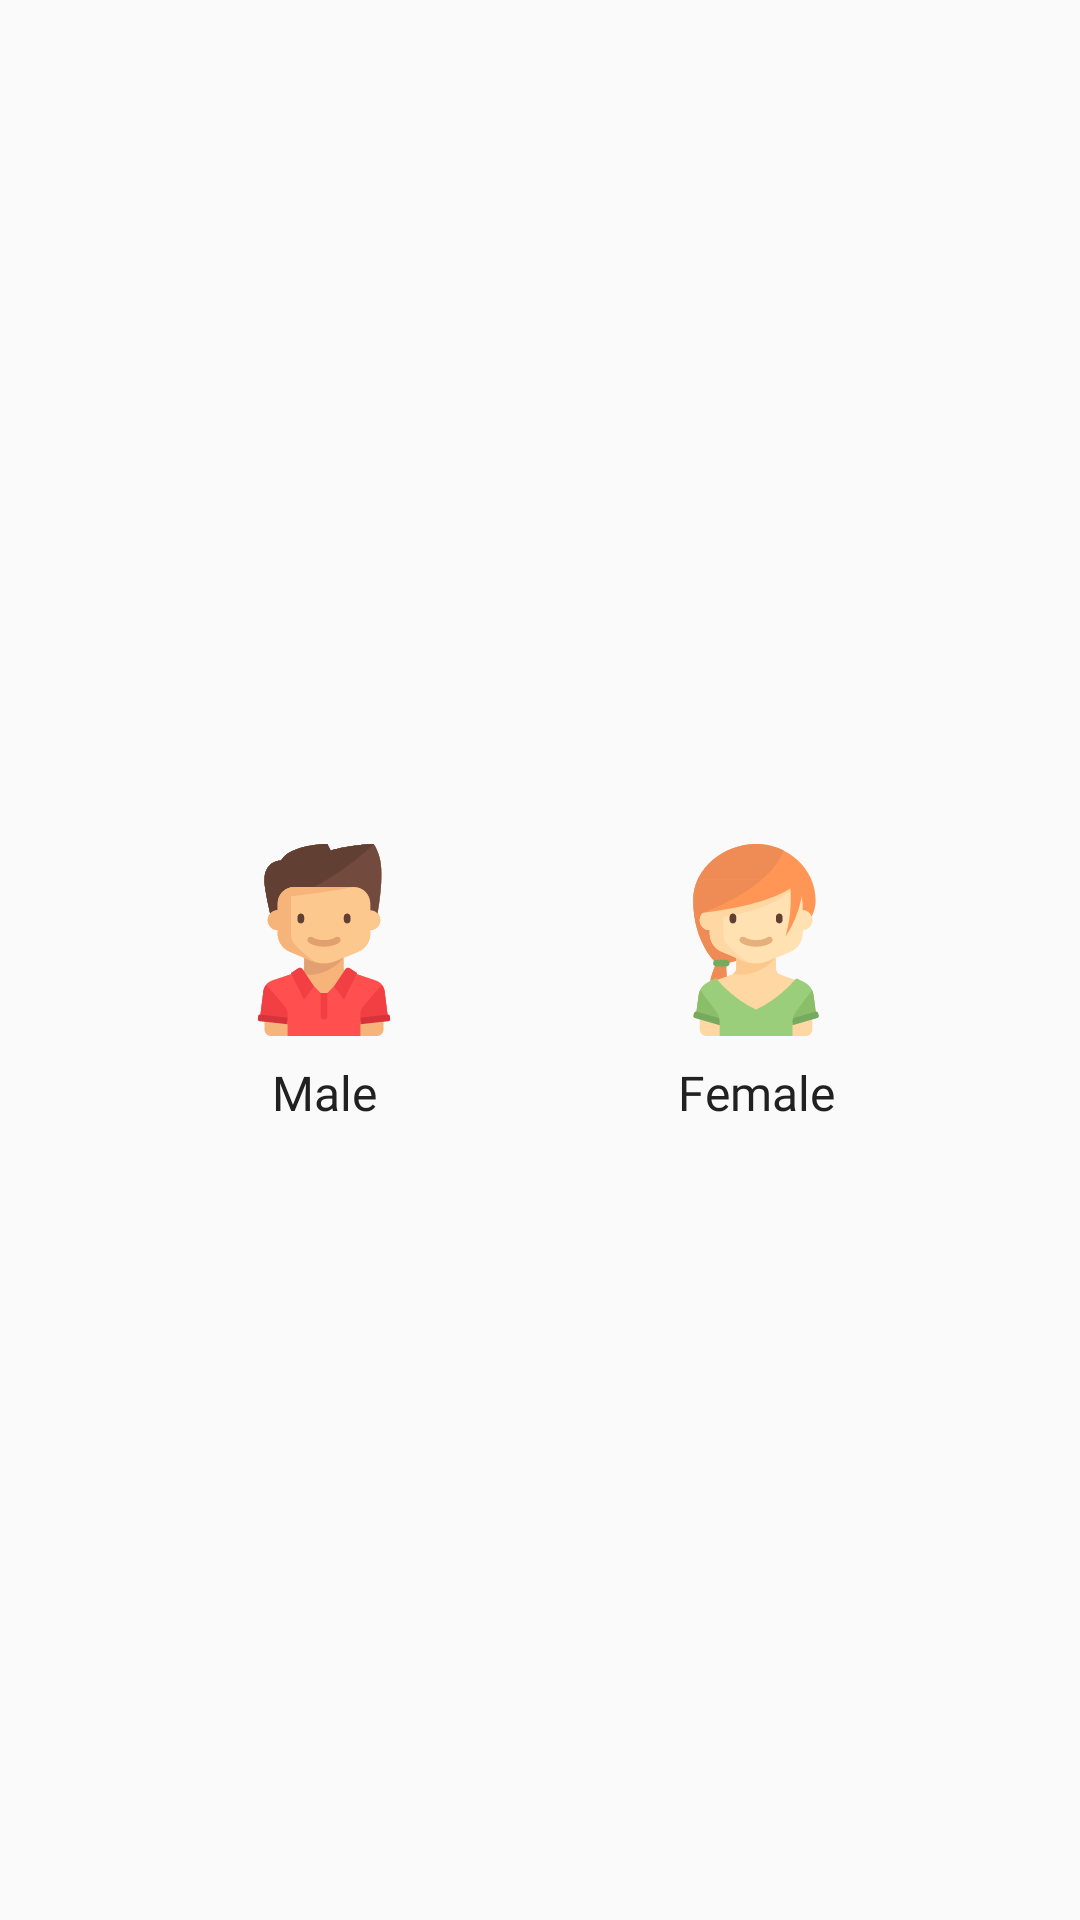

Where to tap for icons on this 1080 × 1920 app screen, as [x,y]:
boy: [324,940]
girl: [756,940]
